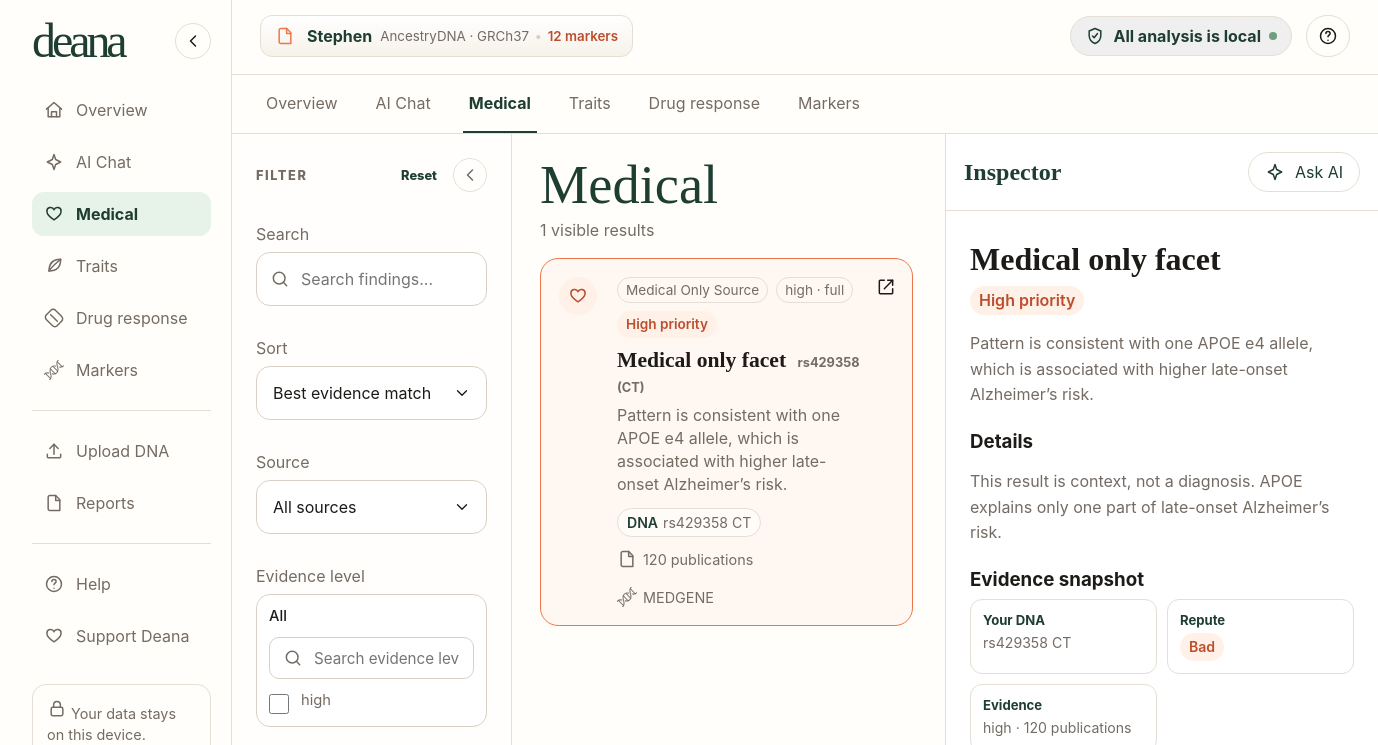
Deana app › renders only the facet options for the active category tab
The width and height of the screenshot is (1378, 745).
Expected: the option "Drug Only Source" is not shown
Expected: the text "DRUGGENE" is not shown
Click the 1st button "Drug response". click: (704, 104)
box: [643,75,766,133]
(page scrolled)
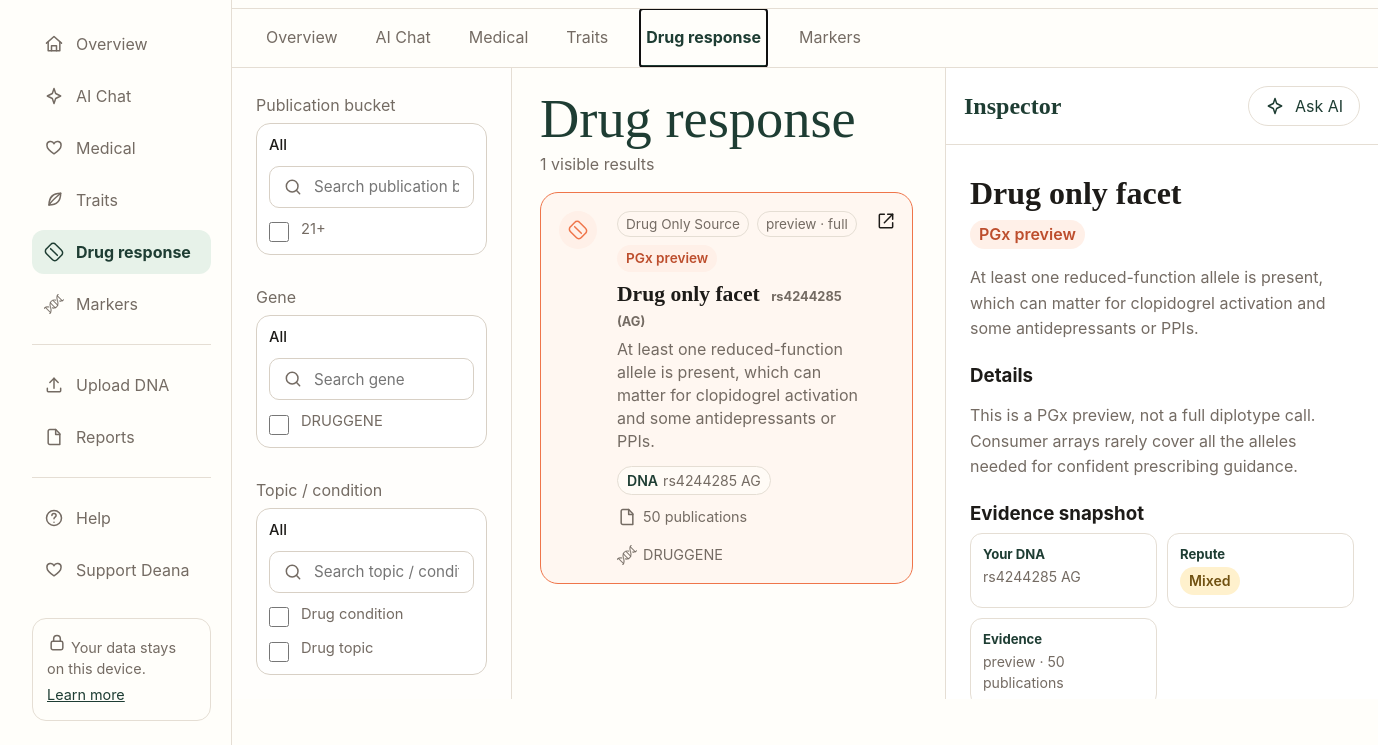
Now the heading "Drug response" is shown, box [540,92,856,146]
Now the button "Medical Only Source" is gone
Now the text "DRUGGENE" is shown, box [301,412,383,430]
